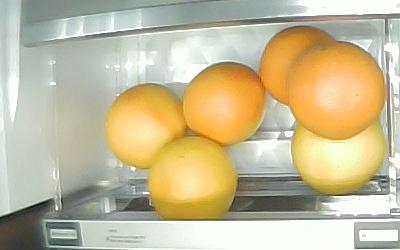grapefruit: (288, 40, 387, 140), (147, 136, 237, 219), (291, 118, 387, 195), (183, 62, 265, 147), (105, 84, 186, 170), (259, 26, 335, 105)
